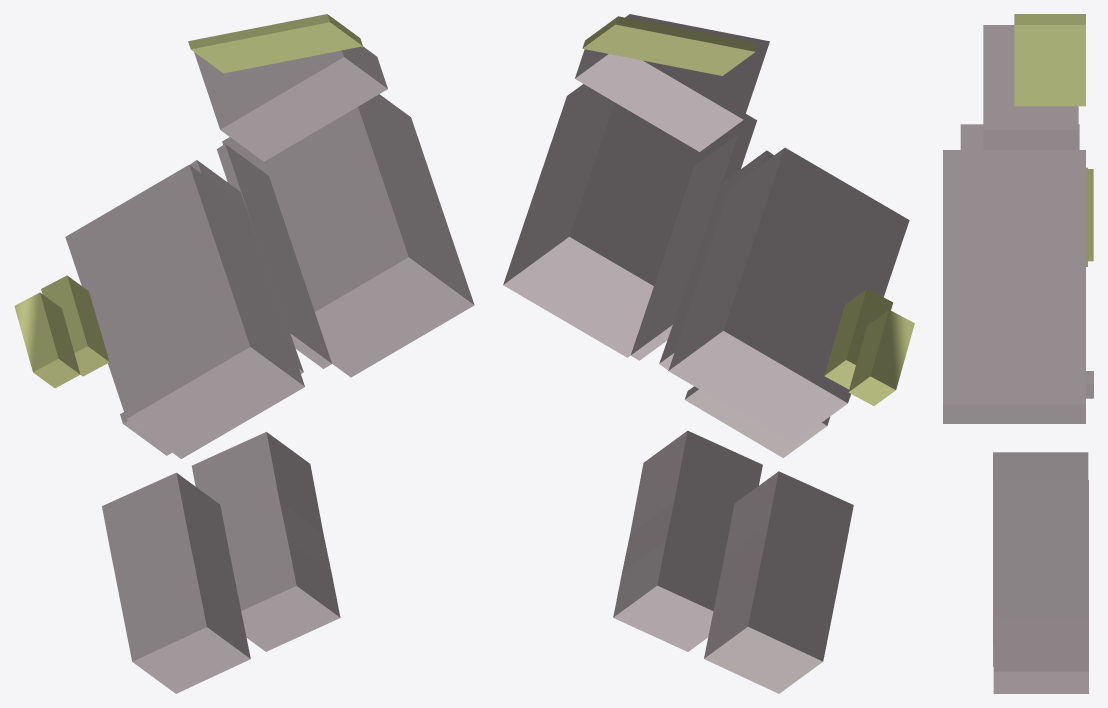
The picture shows the model from 3 angles, left to right: view 1: azimuth 30°, elevation 25°; view 2: azimuth 150°, elevation 25°; view 3: azimuth 270°, elevation 25°; orthographic projection. The views are drawn at different scales.
Parts seen in each view (by area): view 1: 0_2_0_1_1_2_1_1; view 2: 0_2_0_1_1_2_1_1; view 3: 0_2_0_1_1_2_1_1.
Boxes of the visible parts, x1=… form: 0_2_0_1_1_2_1_1: x1=14, y1=14, x2=474, y2=693; 0_2_0_1_1_2_1_1: x1=503, y1=14, x2=914, y2=693; 0_2_0_1_1_2_1_1: x1=943, y1=14, x2=1093, y2=693.
Size of the model in its own units: 61.75 by 91.79 by 19.01.
